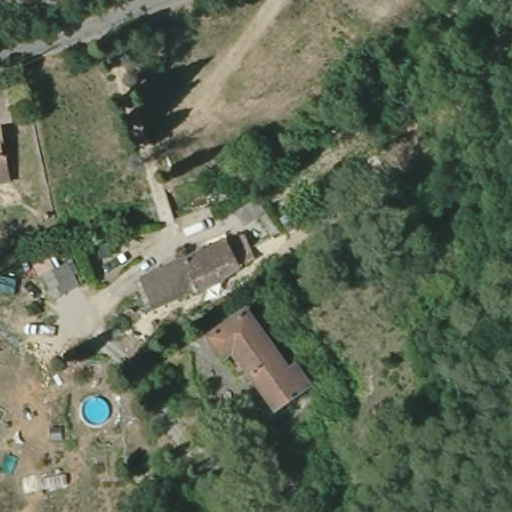pool: (74, 391, 115, 427)
